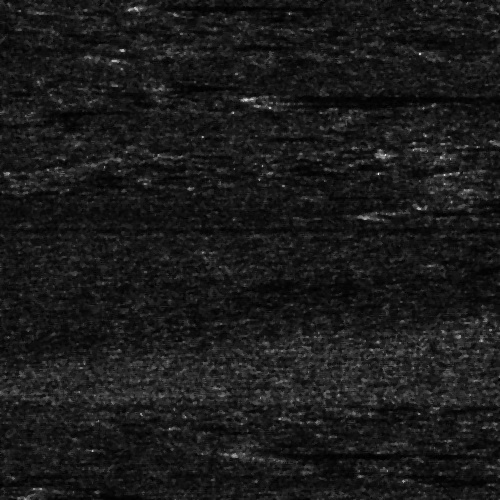object: (396, 163, 500, 176), (134, 81, 187, 90), (226, 92, 289, 99), (226, 451, 279, 456), (253, 101, 284, 104), (134, 2, 165, 5)
shadow: (258, 92, 484, 99), (253, 451, 500, 456), (160, 81, 248, 90), (269, 101, 496, 104), (150, 2, 327, 5), (463, 163, 500, 176)
